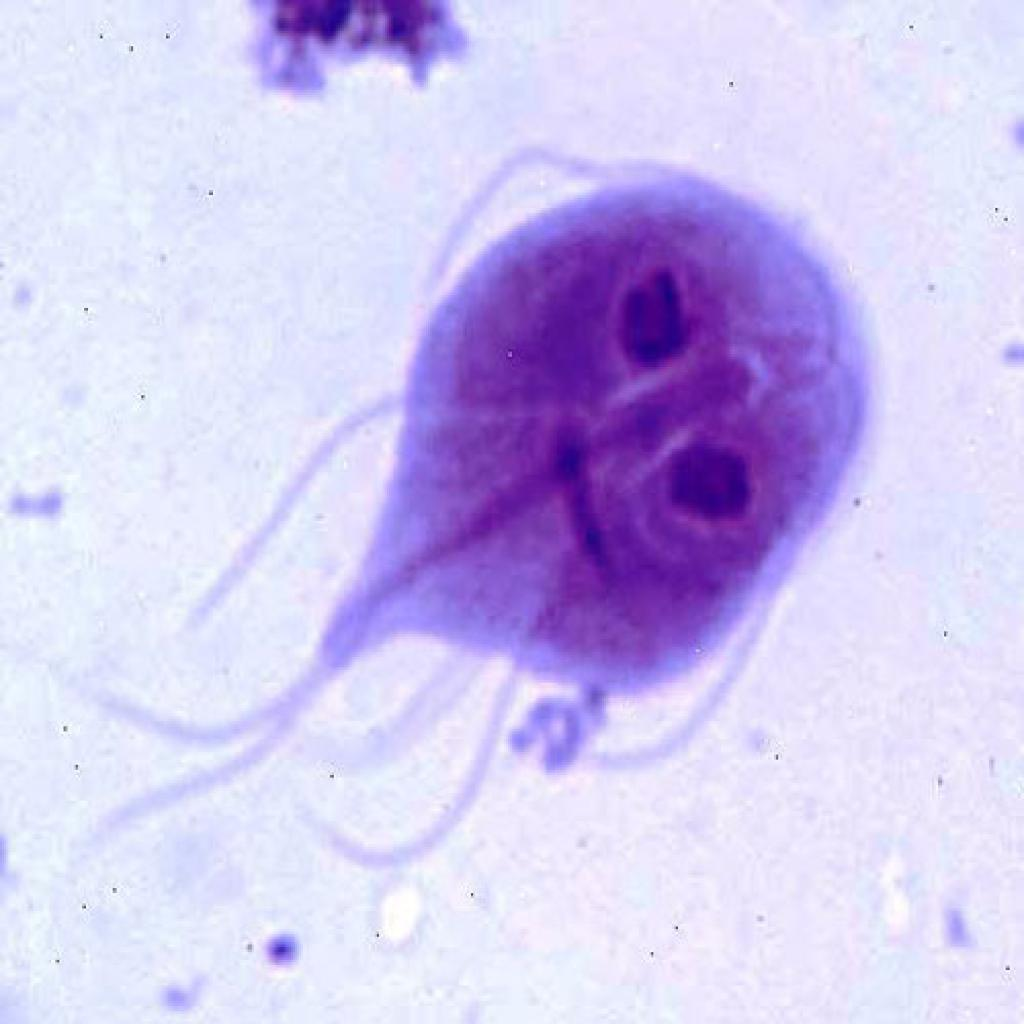Giardia: (319, 152, 887, 760)
